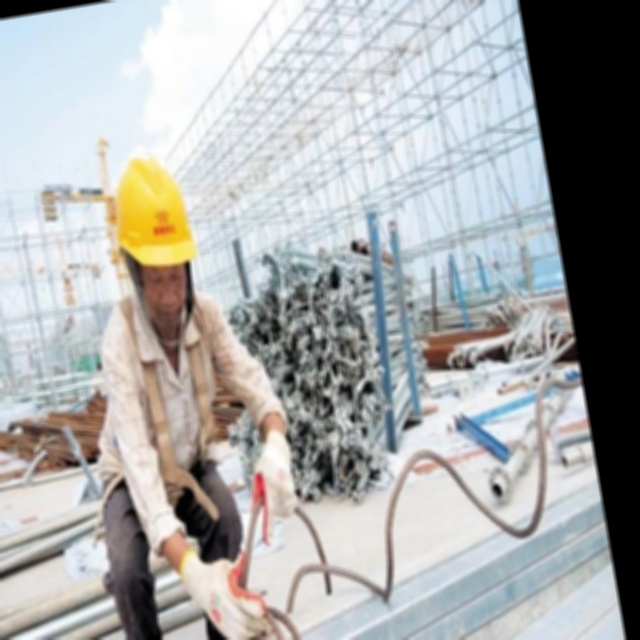Con_Casco: (105, 146, 206, 335)
